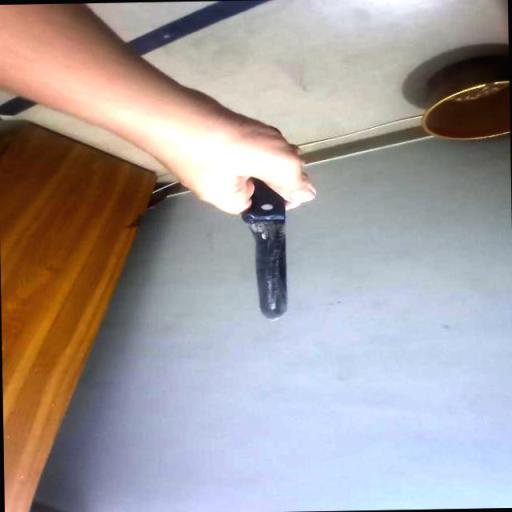knife: (238, 132, 320, 334)
